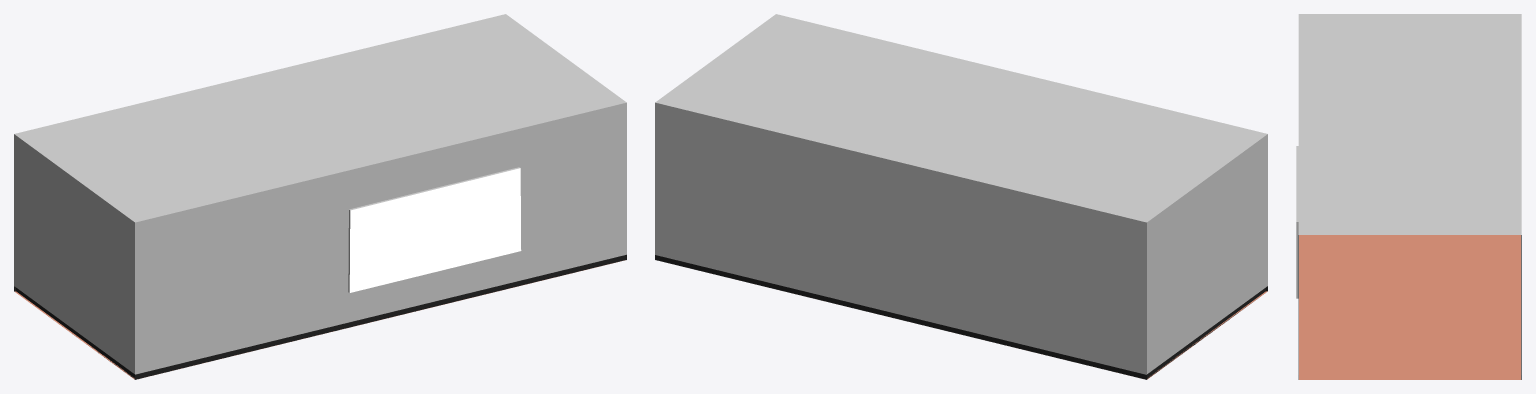
File: Hallway.glb
3 views of the same model, side by side, from view 1: azimuth 30°, elevation 25°; view 2: azimuth 150°, elevation 25°; view 3: azimuth 270°, elevation 25° (orthographic). The views are drawn at different scales.
Parts seen in each view (by area): view 1: Hallway, End Cap, Hallway.001; view 2: Hallway, End Cap; view 3: Hallway.
Boxes of the visible parts, x1,y1,x2,y2 form: Hallway: [14, 14, 626, 379]; End Cap: [14, 134, 136, 379]; Hallway.001: [349, 168, 521, 292]; Hallway: [655, 14, 1267, 379]; End Cap: [1145, 134, 1267, 379]; Hallway: [1296, 14, 1521, 379].
Bounding box in the file's own units: 10 × 3.06 × 4.31.
